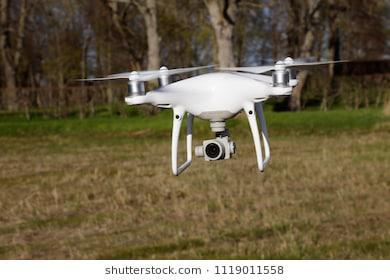drone: (63, 42, 390, 188)
